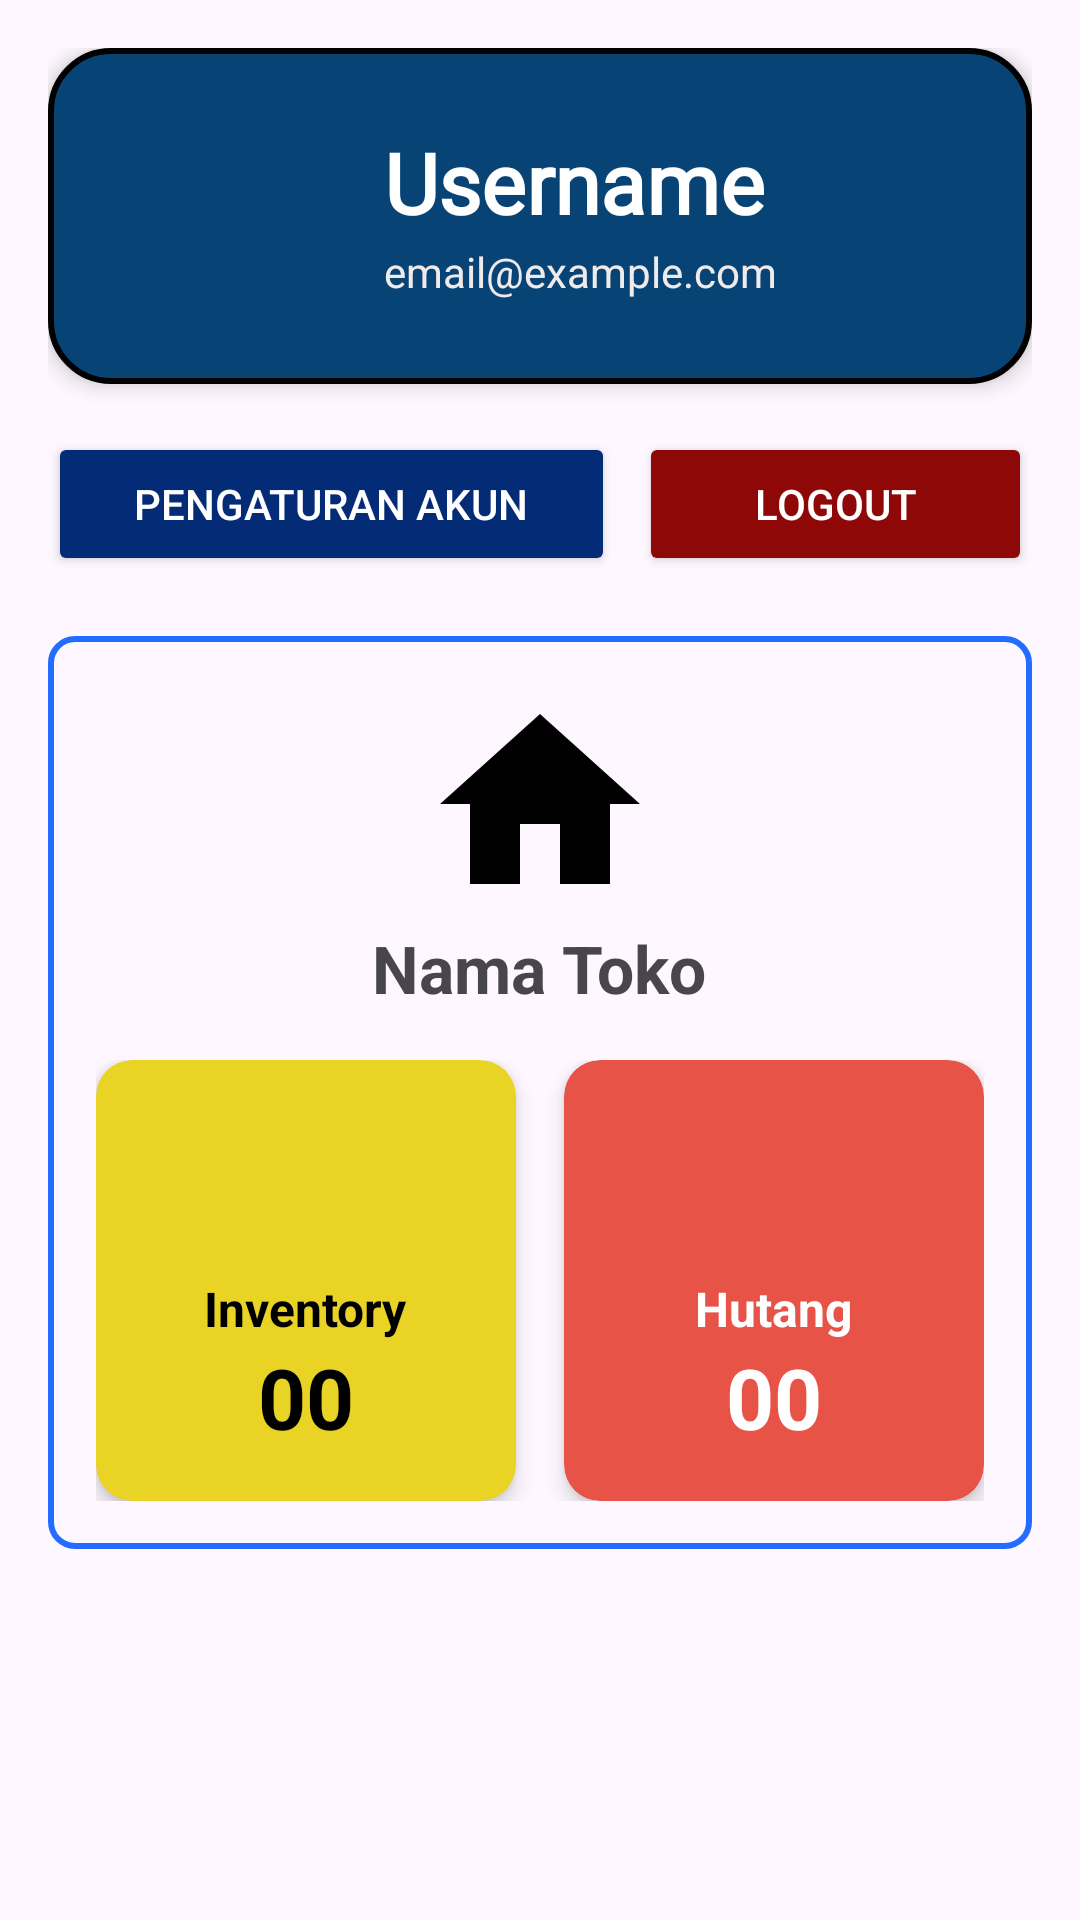

Icons on this 1080 × 1920 Android screen, each with its box as (x1, y1, x2, y2):
gambar toko: (440, 714, 640, 884)
